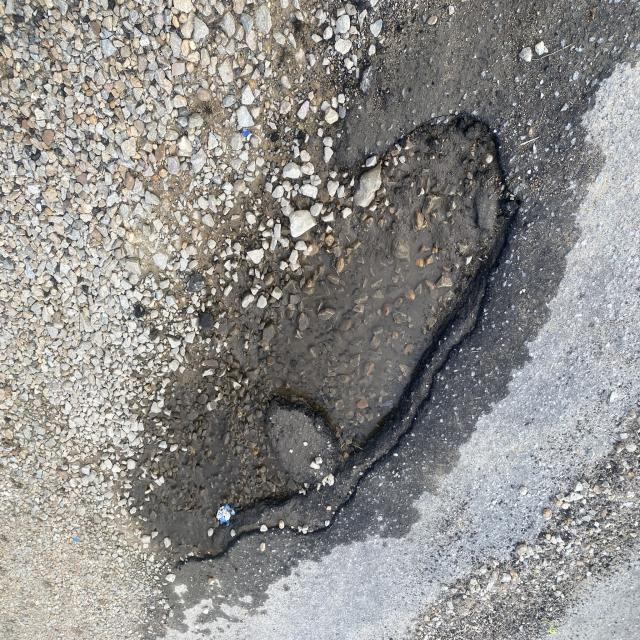pothole: (133, 86, 532, 592)
